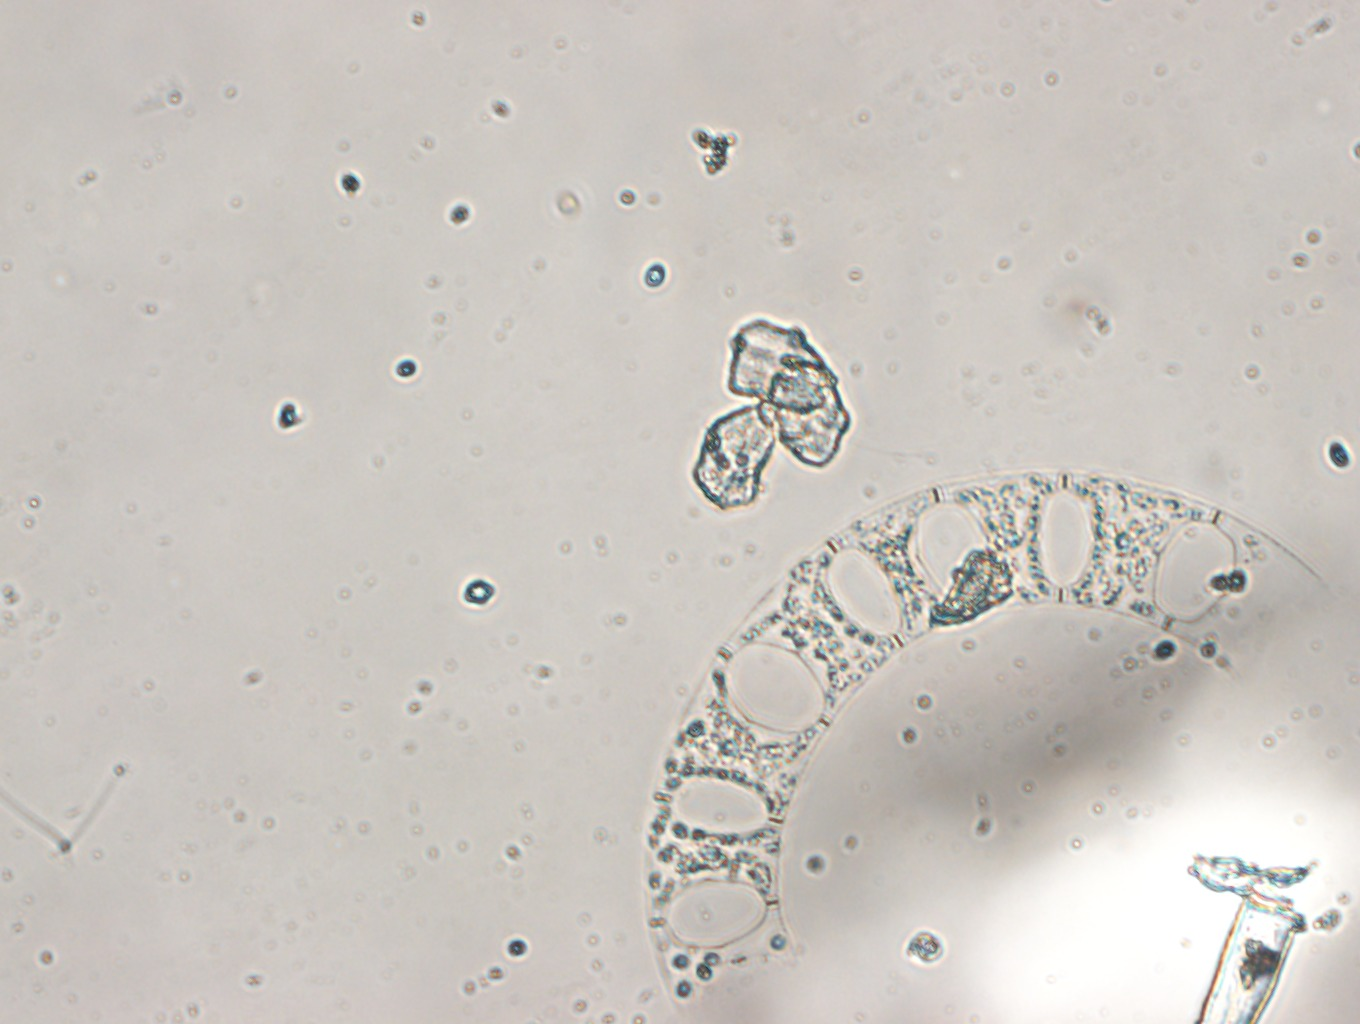eucampia: (650, 472, 1307, 1004)
